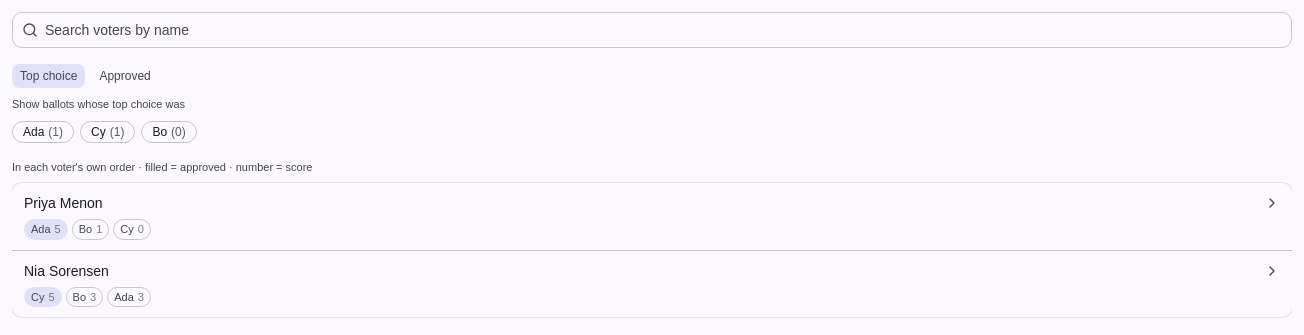
it: BallotPicker filters › reports an empty result rather than an empty list
Type "zzz" into the search field at (652, 30), box [12,12,1292,48]
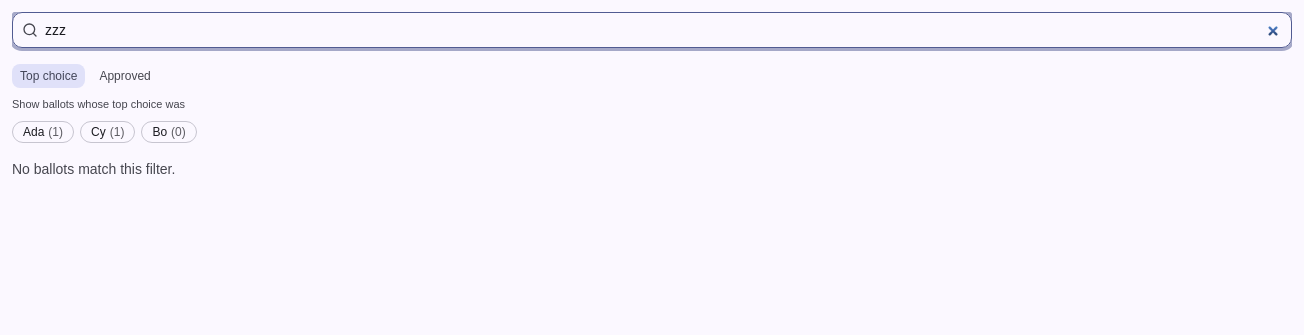
Expected: the text "No ballots match this filter." is shown, [12,160,175,176]
